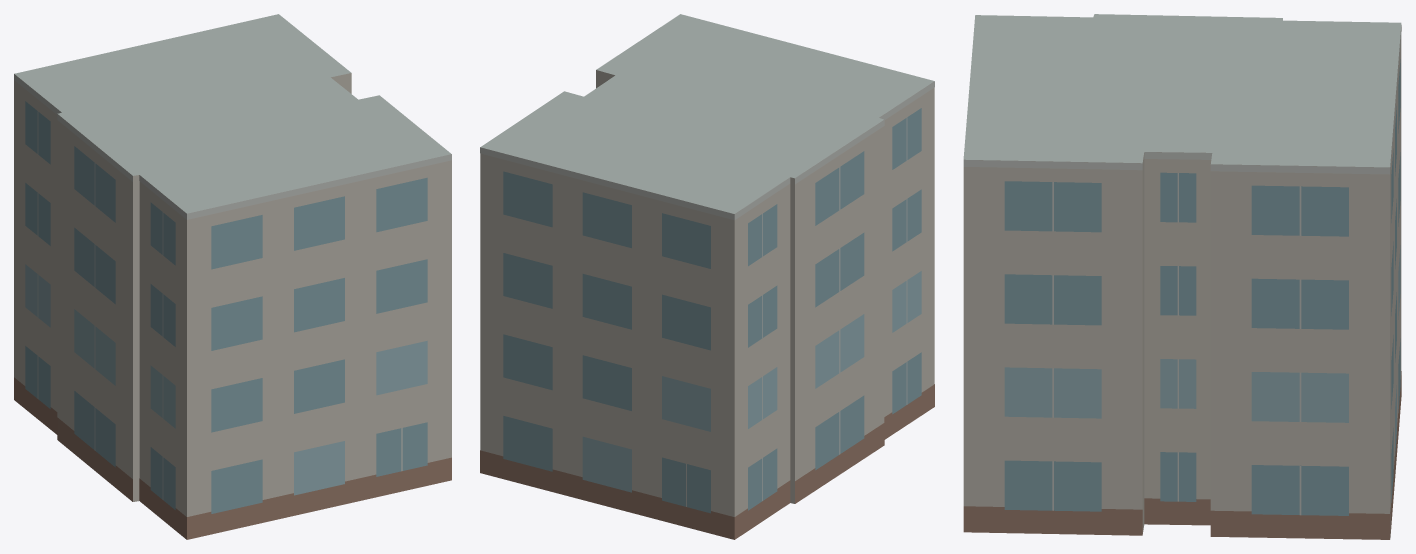
File: survey-upis-33002184.glb
3 views of the same model, side by side, from view 1: azimuth 30°, elevation 25°; view 2: azimuth 150°, elevation 25°; view 3: azimuth 270°, elevation 25° (orthographic). The views are drawn at different scales.
Visible parts, largest first — view 1: survey-upis-33002184.tmp; view 2: survey-upis-33002184.tmp; view 3: survey-upis-33002184.tmp.
Part boxes in pixels (x1,y1,x2,y2): survey-upis-33002184.tmp: [14, 14, 451, 539]; survey-upis-33002184.tmp: [480, 14, 934, 539]; survey-upis-33002184.tmp: [963, 14, 1401, 539].
Size of the model in its own units: 11.31 by 12.8 by 13.65.
